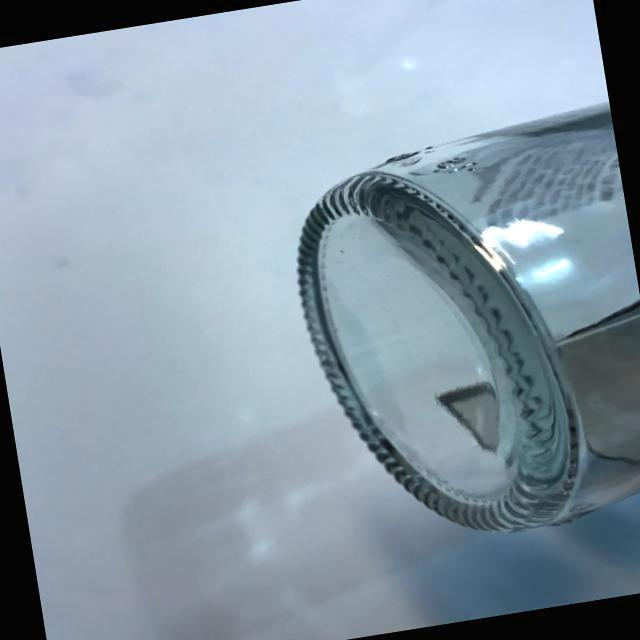glass: (262, 92, 640, 569)
